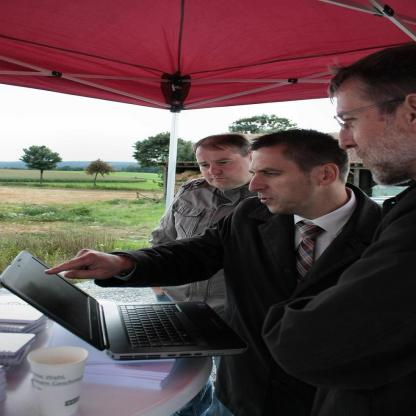board: (9, 257, 267, 375), (26, 345, 89, 416)
